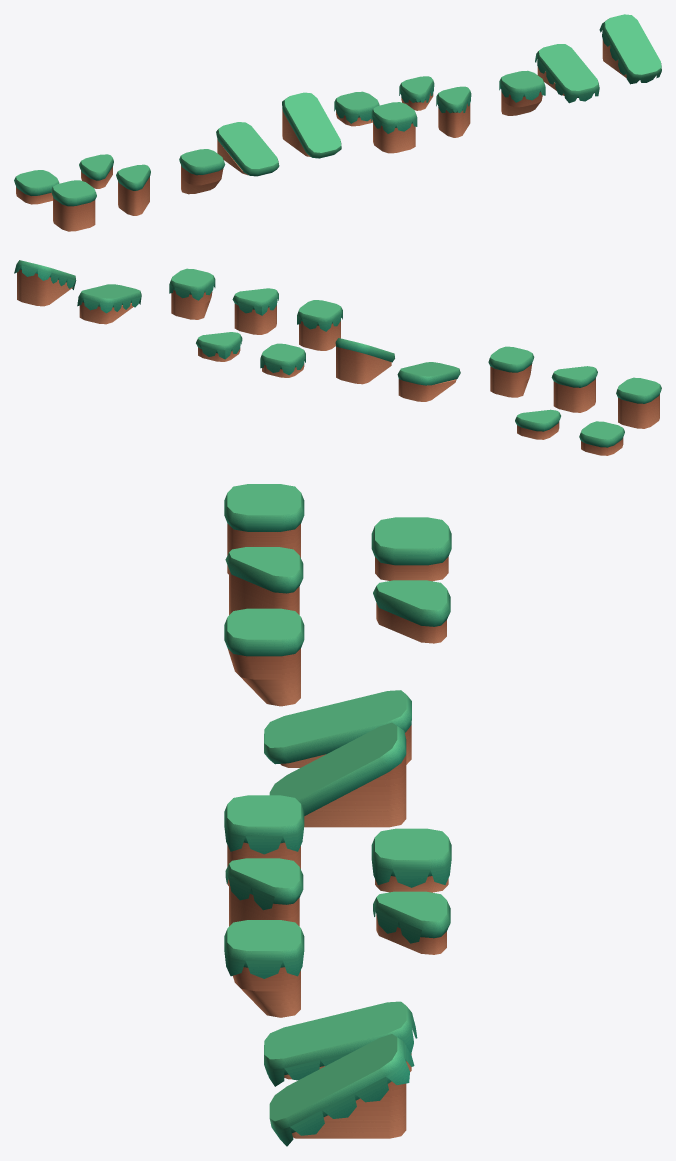
File: Forest_Blocks.glb
3 views of the same model, one above another, from view 1: azimuth 30°, elevation 25°; view 2: azimuth 150°, elevation 25°; view 3: azimuth 270°, elevation 25° (orthographic). The views are drawn at different scales.
Parts seen in each view (by area): view 1: block-grass-overhang-large-slope-steep-narrow, block-grass-large-slope-steep-narrow, block-grass-overhang-large-slope-narrow, block-grass-large-slope-narrow, block-grass-overhang-corner, block-grass, block-grass-overhang-edge, block-grass-edge, block-grass-corner-overhang, block-grass-corner, block-grass-overhang-low, block-grass-low (+2 smaller); view 2: block-grass-overhang-large-slope-steep-narrow, block-grass-large-slope-steep-narrow, block-grass, block-grass-overhang-corner, block-grass-overhang-large-slope-narrow, block-grass-overhang-edge, block-grass-large-slope-narrow, block-grass-edge, block-grass-corner-overhang, block-grass-corner, block-grass-overhang-low, block-grass-low (+2 smaller); view 3: block-grass-overhang-large-slope-steep-narrow, block-grass-large-slope-steep-narrow, block-grass-overhang-large-slope-narrow, block-grass-large-slope-narrow, block-grass-overhang-edge, block-grass-edge, block-grass-overhang-corner, block-grass, block-grass-overhang-low, block-grass-low, block-grass-corner-overhang, block-grass-corner (+2 smaller).
Boxes of the visible parts, x1,y1,x2,y2 form: block-grass-overhang-large-slope-steep-narrow: (599, 14, 661, 84); block-grass-large-slope-steep-narrow: (282, 92, 341, 158); block-grass-overhang-large-slope-narrow: (535, 44, 599, 103); block-grass-large-slope-narrow: (216, 122, 279, 176); block-grass-overhang-corner: (371, 102, 417, 153); block-grass: (51, 180, 96, 231); block-grass-overhang-edge: (499, 70, 545, 115); block-grass-edge: (179, 149, 225, 194); block-grass-corner-overhang: (436, 86, 471, 137); block-grass-corner: (116, 164, 150, 215); block-grass-overhang-low: (334, 91, 379, 126); block-grass-low: (14, 170, 59, 204); block-grass-overhang-large-slope-steep-narrow: (14, 260, 76, 306); block-grass-large-slope-steep-narrow: (335, 338, 394, 384); block-grass: (616, 377, 661, 428); block-grass-overhang-corner: (297, 300, 342, 350); block-grass-overhang-large-slope-narrow: (77, 284, 141, 324); block-grass-overhang-edge: (169, 268, 215, 319); block-grass-large-slope-narrow: (397, 362, 460, 401); block-grass-edge: (488, 346, 534, 397); block-grass-corner-overhang: (232, 288, 278, 334); block-grass-corner: (551, 366, 597, 412); block-grass-overhang-low: (260, 343, 305, 377); block-grass-low: (579, 421, 624, 455); block-grass-overhang-large-slope-steep-narrow: (269, 1034, 414, 1146); block-grass-large-slope-steep-narrow: (269, 722, 406, 827); block-grass-overhang-large-slope-narrow: (264, 1001, 417, 1086); block-grass-large-slope-narrow: (264, 690, 411, 767); block-grass-overhang-edge: (224, 920, 304, 1017); block-grass-edge: (224, 608, 304, 706); block-grass-overhang-corner: (224, 795, 304, 885); block-grass: (224, 484, 304, 574); block-grass-overhang-low: (371, 828, 451, 892); block-grass-low: (371, 517, 451, 581); block-grass-corner-overhang: (225, 858, 303, 926); block-grass-corner: (225, 547, 303, 614).
Bounding box in the file's own units: 19.08 × 1.38 × 3.08.
14 materials, 14 textured.
